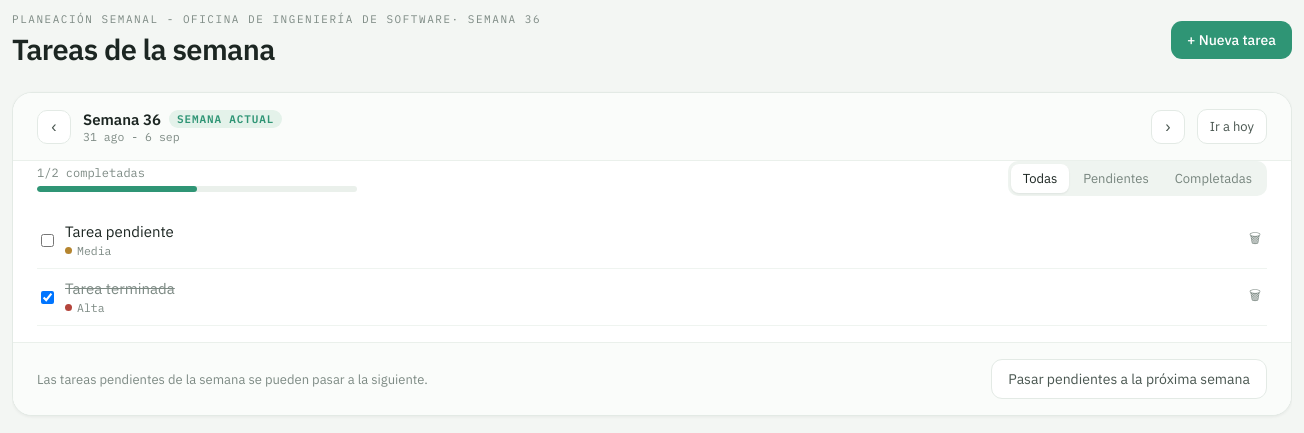
Test: TaskListComponent › should go back to the current week when "Ir a hoy" is clicked
Step 1. Click the button named "Semana siguiente" → (1168, 126), box [1151, 110, 1185, 144]
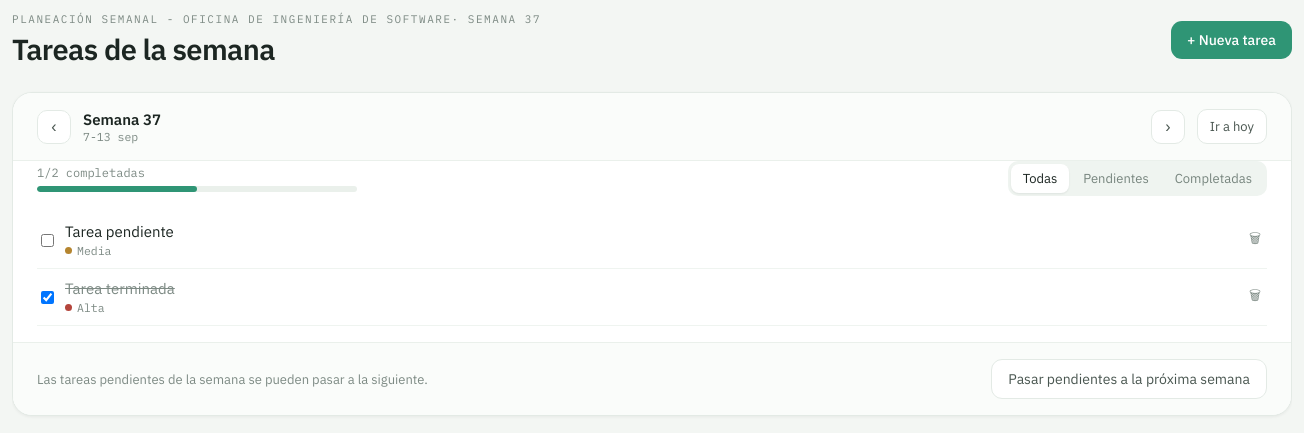
Step 2. Click the button with class "today-btn" → (1232, 126), box [1197, 109, 1267, 144]
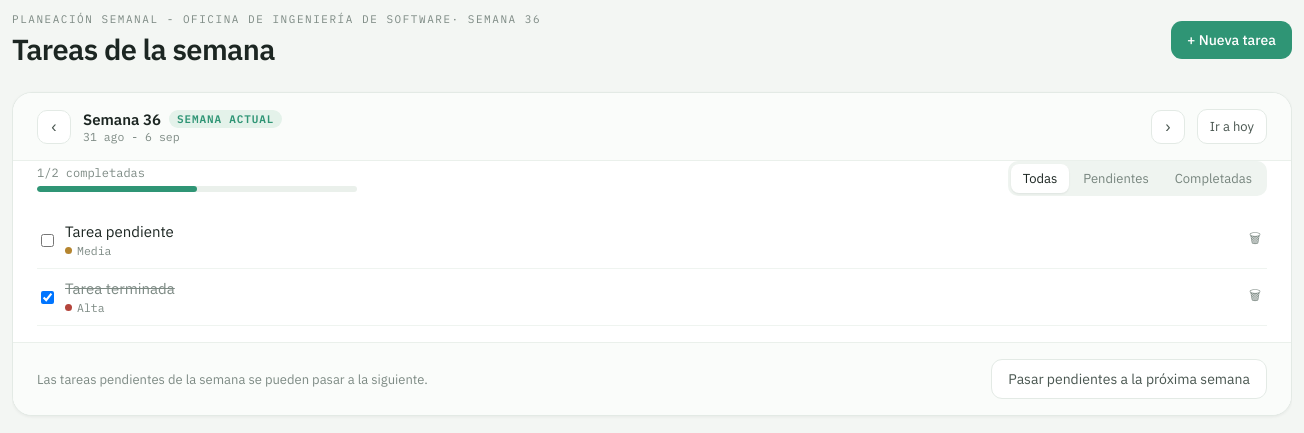
Result: the text "Semana actual" is shown at [169, 110, 282, 128]
